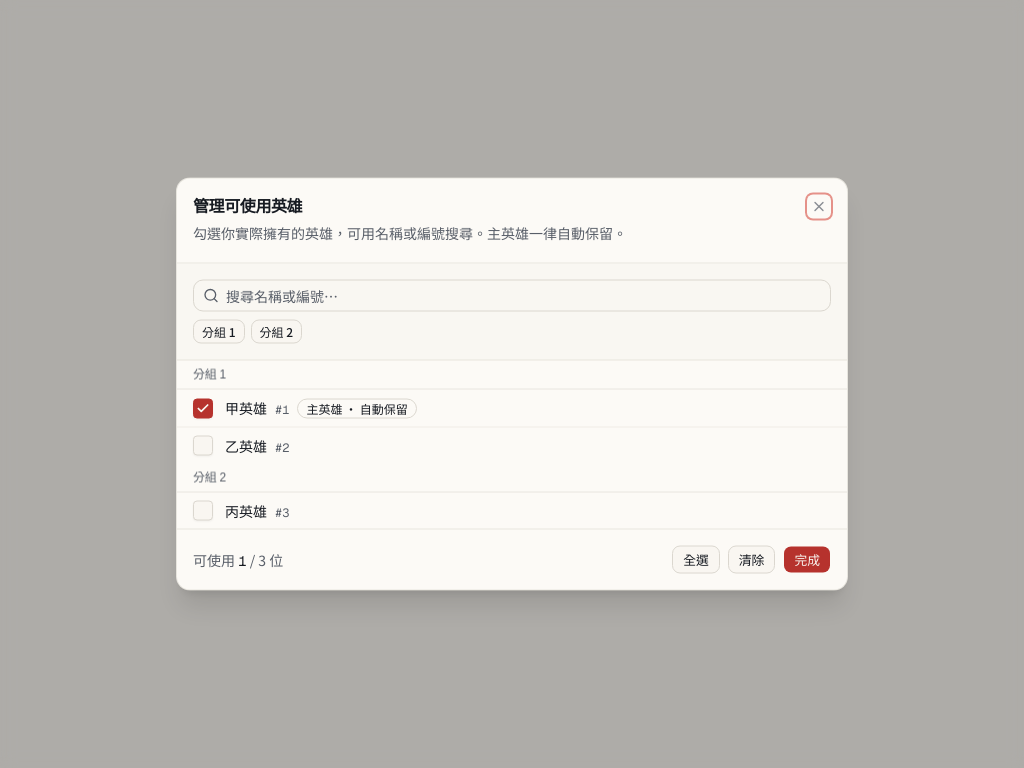
Test case: HeroRosterDialog › 勾選 companion 會回報到上層 state
Click the checkbox named "乙英雄" next to "乙英雄" at (203,446), box [193,436,213,456]
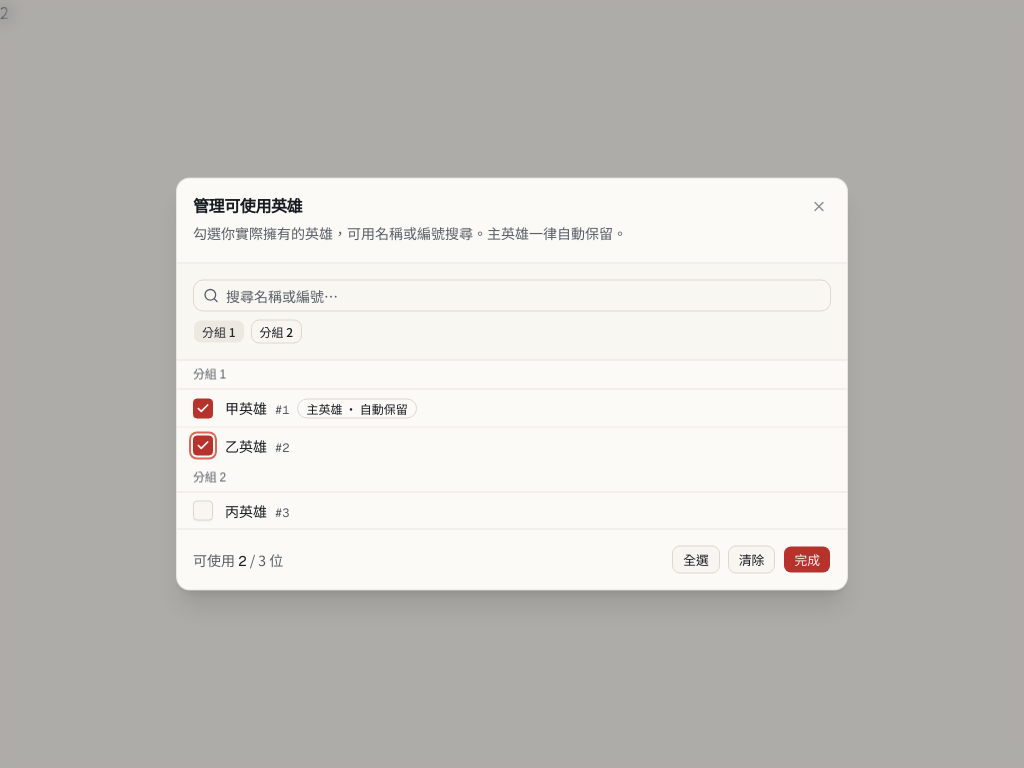
Result: the text with test id "selected" reads "2" at [0,0,9,24]
